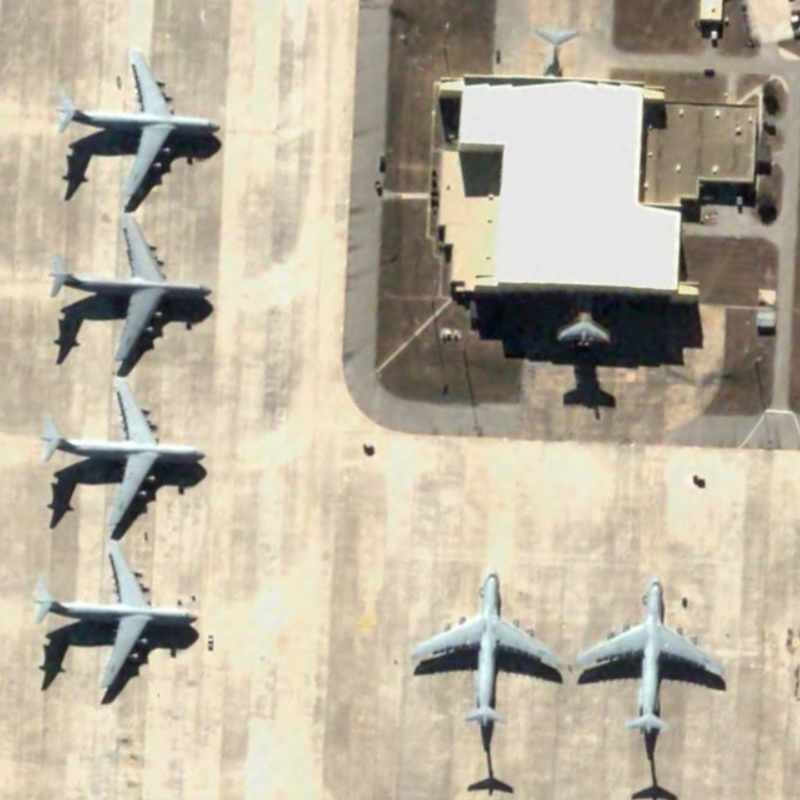A4: (404, 560, 575, 735), (48, 45, 224, 215), (20, 538, 204, 700), (40, 209, 216, 373), (38, 371, 208, 538), (574, 571, 732, 739)
